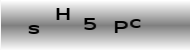5: (82, 16, 98, 31)
H: (54, 7, 72, 22)
P: (112, 20, 129, 35)
c: (129, 18, 142, 29)
s: (27, 24, 41, 35)
